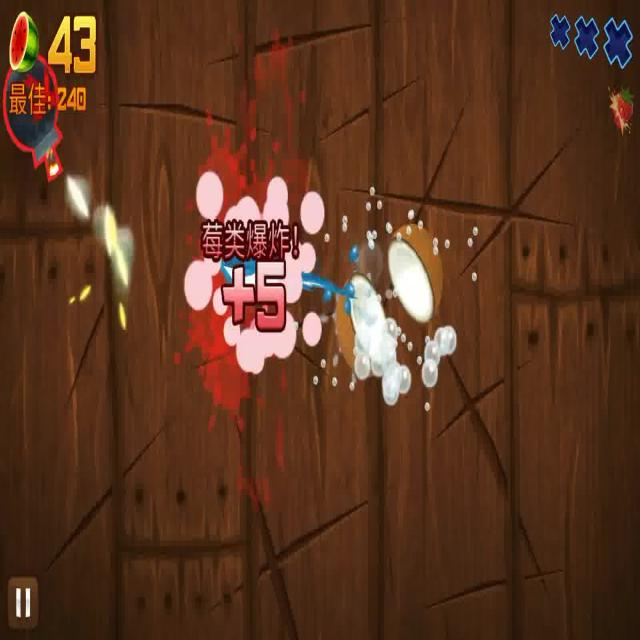bomb: (1, 55, 71, 191)
fruit: (336, 272, 398, 380), (388, 215, 442, 328)
